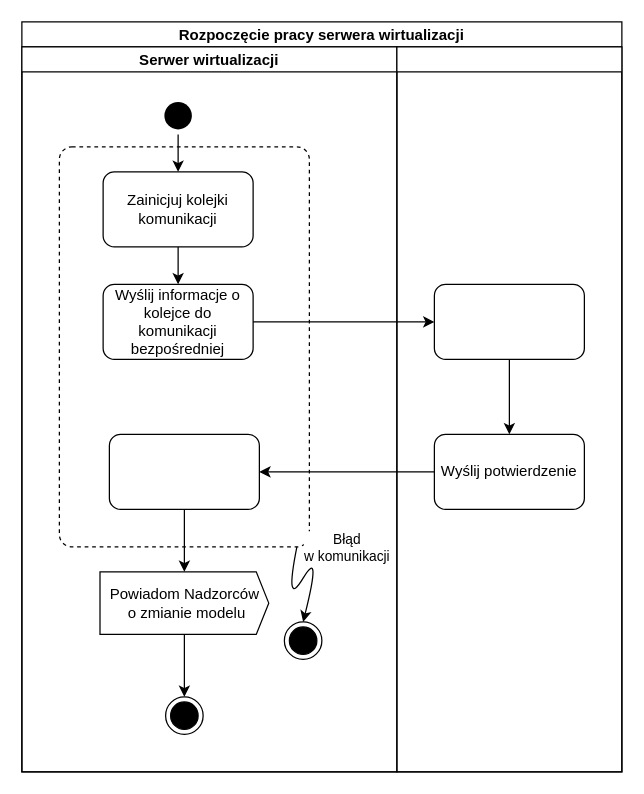
Some shapes in this 644 by 794 pixel diagram are drawn without their labels. Each missing label, with the box of its shape:
Nadzorca: (396, 46, 622, 772)
Podłacz sie do kolejki bezpośredniej z nowym serwerem: (433, 283, 584, 359)
Podłącz się do kolejki zbiorczej od nadzorców: (108, 433, 259, 509)
